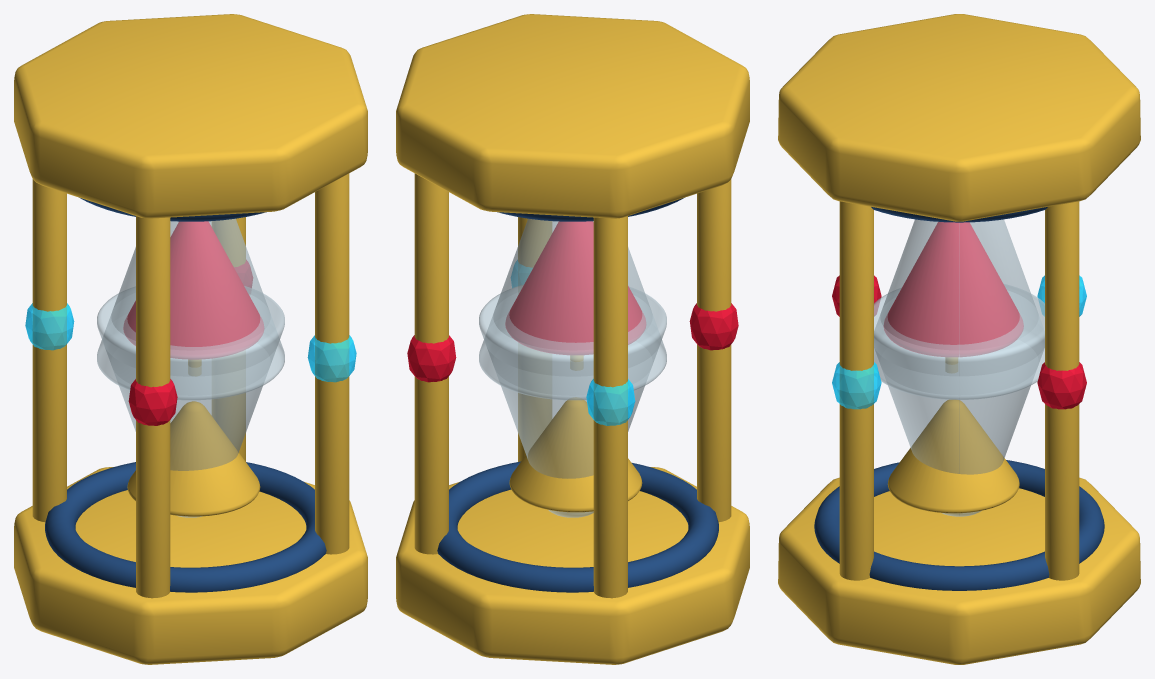
Rendered from hourglass.glb.
3 renders of one model, left to right at view 1: azimuth 30°, elevation 25°; view 2: azimuth 150°, elevation 25°; view 3: azimuth 270°, elevation 25°, orthographic.
Parts seen in each view (by area): view 1: treasure-hourglass-octagonal-gold-plate.001, treasure-hourglass-octagonal-gold-plate, treasure-hourglass-upper-crystal-bulb, treasure-hourglass-lower-crystal-bulb, treasure-hourglass-fluted-solid-gold-column.003, treasure-hourglass-fluted-solid-gold-column.002, treasure-hourglass-lapis-plate-inlay, treasure-hourglass-fluted-solid-gold-column.001, treasure-hourglass-upper-ruby-sand, treasure-hourglass-lower-gold-sand, treasure-hourglass-fluted-solid-gold-column, treasure-hourglass-column-set-jewel.001 (+3 smaller); view 2: treasure-hourglass-octagonal-gold-plate.001, treasure-hourglass-octagonal-gold-plate, treasure-hourglass-upper-crystal-bulb, treasure-hourglass-lower-crystal-bulb, treasure-hourglass-fluted-solid-gold-column.001, treasure-hourglass-fluted-solid-gold-column, treasure-hourglass-lapis-plate-inlay, treasure-hourglass-fluted-solid-gold-column.002, treasure-hourglass-upper-ruby-sand, treasure-hourglass-lower-gold-sand, treasure-hourglass-fluted-solid-gold-column.003, treasure-hourglass-column-set-jewel.002 (+3 smaller); view 3: treasure-hourglass-octagonal-gold-plate.001, treasure-hourglass-octagonal-gold-plate, treasure-hourglass-upper-crystal-bulb, treasure-hourglass-lower-crystal-bulb, treasure-hourglass-fluted-solid-gold-column.003, treasure-hourglass-upper-ruby-sand, treasure-hourglass-fluted-solid-gold-column, treasure-hourglass-lower-gold-sand, treasure-hourglass-lapis-plate-inlay, treasure-hourglass-column-set-jewel, treasure-hourglass-column-set-jewel.003, treasure-hourglass-lapis-plate-inlay.001.
Part boxes in pixels (x1,y1,x2,y2): treasure-hourglass-octagonal-gold-plate.001: [14, 14, 367, 218]; treasure-hourglass-octagonal-gold-plate: [14, 467, 367, 664]; treasure-hourglass-upper-crystal-bulb: [97, 218, 284, 400]; treasure-hourglass-lower-crystal-bulb: [97, 286, 284, 517]; treasure-hourglass-fluted-solid-gold-column.003: [315, 173, 349, 554]; treasure-hourglass-fluted-solid-gold-column.002: [136, 216, 170, 598]; treasure-hourglass-lapis-plate-inlay: [45, 462, 326, 592]; treasure-hourglass-fluted-solid-gold-column.001: [32, 179, 66, 522]; treasure-hourglass-upper-ruby-sand: [123, 221, 264, 359]; treasure-hourglass-lower-gold-sand: [127, 401, 260, 516]; treasure-hourglass-fluted-solid-gold-column: [212, 217, 245, 461]; treasure-hourglass-column-set-jewel.001: [25, 303, 74, 350]; treasure-hourglass-octagonal-gold-plate.001: [396, 14, 749, 218]; treasure-hourglass-octagonal-gold-plate: [396, 467, 749, 664]; treasure-hourglass-upper-crystal-bulb: [479, 218, 666, 400]; treasure-hourglass-lower-crystal-bulb: [479, 285, 666, 517]; treasure-hourglass-fluted-solid-gold-column.001: [593, 216, 627, 598]; treasure-hourglass-fluted-solid-gold-column: [414, 173, 448, 554]; treasure-hourglass-lapis-plate-inlay: [437, 461, 718, 592]; treasure-hourglass-fluted-solid-gold-column.002: [697, 179, 731, 522]; treasure-hourglass-upper-ruby-sand: [505, 221, 645, 354]; treasure-hourglass-lower-gold-sand: [509, 397, 642, 512]; treasure-hourglass-fluted-solid-gold-column.003: [518, 217, 551, 461]; treasure-hourglass-column-set-jewel.002: [689, 303, 738, 350]; treasure-hourglass-octagonal-gold-plate.001: [778, 14, 1140, 221]; treasure-hourglass-octagonal-gold-plate: [778, 477, 1140, 664]; treasure-hourglass-upper-crystal-bulb: [874, 219, 1044, 399]; treasure-hourglass-lower-crystal-bulb: [874, 284, 1044, 516]; treasure-hourglass-fluted-solid-gold-column.003: [839, 201, 873, 580]; treasure-hourglass-upper-ruby-sand: [884, 222, 1023, 356]; treasure-hourglass-fluted-solid-gold-column: [1045, 201, 1079, 580]; treasure-hourglass-lower-gold-sand: [887, 399, 1019, 513]; treasure-hourglass-lapis-plate-inlay: [814, 460, 1104, 590]; treasure-hourglass-column-set-jewel: [1037, 362, 1086, 409]; treasure-hourglass-column-set-jewel.003: [832, 362, 881, 409]; treasure-hourglass-lapis-plate-inlay.001: [871, 207, 1047, 222].
Size of the model in its own units: 0.9469 by 1.46 by 0.9489.
